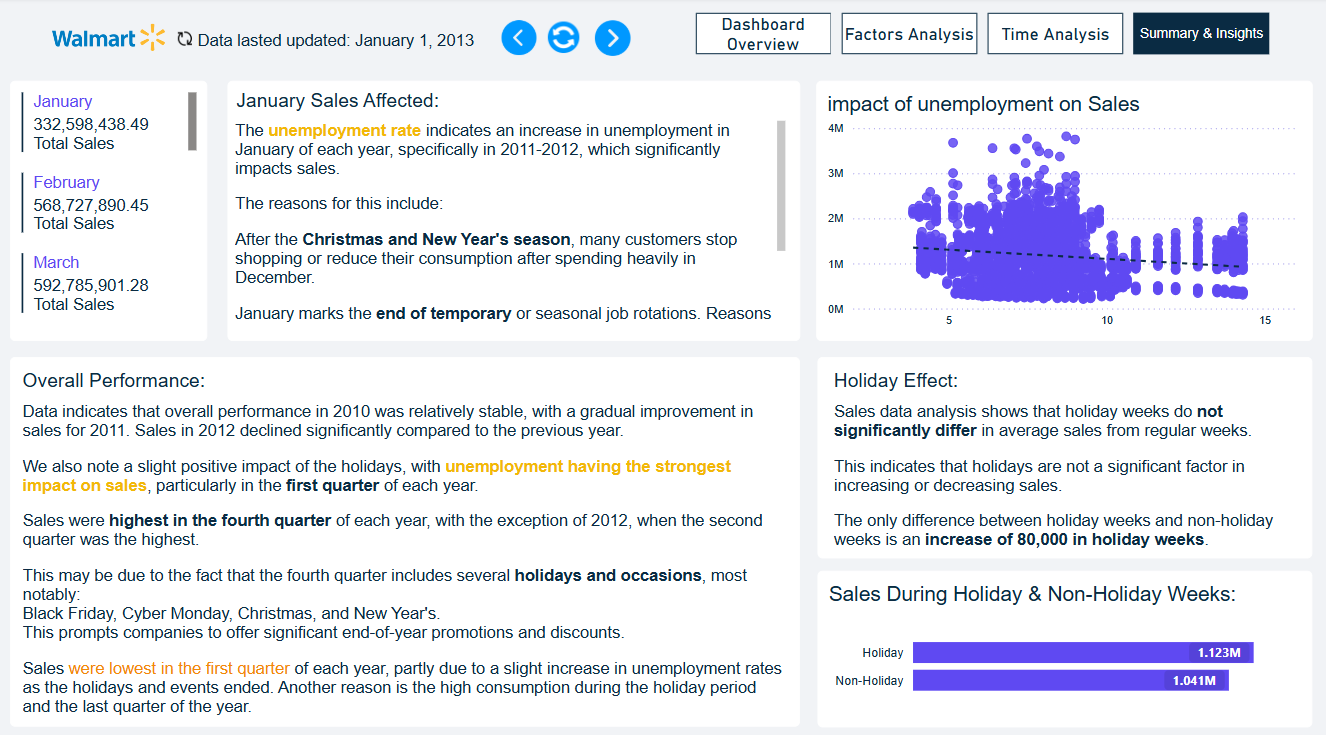

What the dashboard file says about the page in this screenshot:
{"tool":"powerbi","page":{"name":"Summary & Insights","canvas":[1280,720],"ordinal":3},"visuals":[{"type":"textbox","box":[190.7,32.9,281.3,20.6],"z":0},{"type":"shape","box":[9.7,347.5,762.5,357.1],"z":0,"group":"g1"},{"type":"image","box":[157.8,23.3,41.2,34.3],"z":1000},{"type":"textbox","box":[21.4,359.5,264.7,30.9],"z":1000,"group":"g1"},{"type":"image","box":[33.8,4.8,141.2,67.6],"z":2000},{"type":"scatterChart","title":"impact of unemployment on Sales","fields":{"Y":["Walmart_Sales.Weekly_Sales"],"X":["Walmart_Sales.Unemployment"]},"box":[787.8,80.8,479,250.9],"z":3000},{"type":"multiRowCard","fields":{"Values":["Walmart_Sales.Date.Variation.Date Hierarchy.Month","Walmart_Sales.Total Sales"]},"box":[9.7,80.8,190.6,250.9],"z":4000},{"type":"shape","box":[219.6,80.8,552.5,250.9],"z":5000,"group":"g2"},{"type":"group","id":"g1","title":"Group 2","box":[9.7,347.5,762.5,357.1],"z":5000},{"type":"shape","box":[788.5,347.9,477.8,194.4],"z":5000,"group":"g3"},{"type":"group","id":"g2","title":"Group 1","box":[219.6,80.8,552.5,250.9],"z":6000},{"type":"textbox","box":[228.6,89.4,238.9,27.7],"z":6000,"group":"g2"},{"type":"textbox","box":[803.9,360.5,167.1,23.5],"z":6000,"group":"g3"},{"type":"textbox","box":[227.4,119.6,530.8,195.4],"z":7000,"group":"g2"},{"type":"textbox","box":[21.7,390.9,734.7,302.8],"z":7000},{"type":"group","id":"g3","title":"Group 1","box":[788.5,347.9,477.8,194.4],"z":8000},{"type":"image","box":[515.3,13.7,57.6,50.8],"z":9000},{"type":"image","box":[557.1,11.7,68.6,54.9],"z":10000},{"type":"image","box":[472,11,59,56.3],"z":11000},{"type":"pageNavigator","box":[661.1,4.8,574.3,60.3],"z":12000},{"type":"textbox","box":[804.6,391.2,444.4,151],"z":13000},{"type":"clusteredBarChart","title":"Sales During Holiday & Non-Holiday Weeks:","fields":{"Category":["HolidayType.Type"],"Y":["HolidayType.Avg_Sales_By_Type"]},"box":[788.5,553.3,477.8,151],"z":14000}]}

Visuals, with their boxes in screenshot pixels (x1, y1, x2, y2), scaled from the page's 1280x720 canvas onto the 1326x735 screenshot:
textbox: (198, 34, 489, 55)
shape: (10, 355, 800, 719)
image: (163, 24, 206, 59)
textbox: (22, 367, 296, 399)
image: (35, 5, 181, 74)
"impact of unemployment on Sales" scatterChart: (816, 82, 1312, 339)
multiRowCard - Walmart_Sales.Date.Variation.Date Hierarchy.Month x Walmart_Sales.Total Sales: (10, 82, 207, 339)
shape: (227, 82, 800, 339)
"Group 2" group: (10, 355, 800, 719)
shape: (817, 355, 1312, 554)
"Group 1" group: (227, 82, 800, 339)
textbox: (237, 91, 484, 120)
textbox: (833, 368, 1006, 392)
textbox: (236, 122, 785, 322)
textbox: (22, 399, 784, 708)
"Group 1" group: (817, 355, 1312, 554)
image: (534, 14, 593, 66)
image: (577, 12, 648, 68)
image: (489, 11, 550, 69)
pageNavigator: (685, 5, 1280, 66)
textbox: (834, 399, 1294, 553)
"Sales During Holiday & Non-Holiday Weeks:" clusteredBarChart: (817, 565, 1312, 719)
